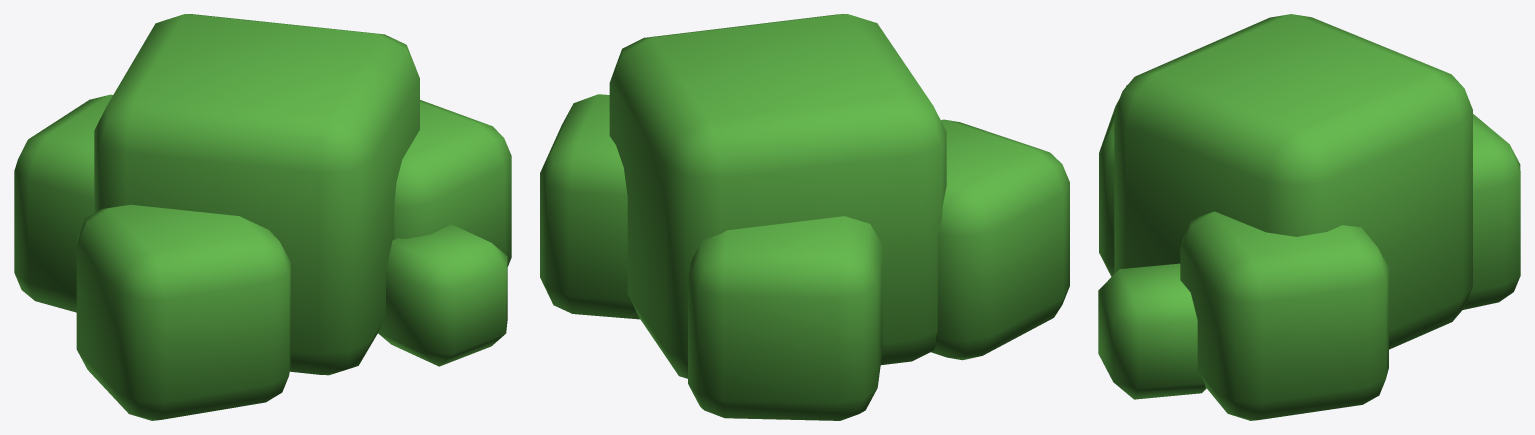
Rendered from plant_bush_2.glb.
3 views of the same model, side by side, from view 1: azimuth 30°, elevation 25°; view 2: azimuth 150°, elevation 25°; view 3: azimuth 270°, elevation 25° (orthographic). The views are drawn at different scales.
Visible parts, largest first — view 1: plant_bush_2; view 2: plant_bush_2; view 3: plant_bush_2.
Boxes of the visible parts, <box> form: plant_bush_2: <box>14,14,511,420</box>; plant_bush_2: <box>540,14,1069,420</box>; plant_bush_2: <box>1098,14,1520,420</box>.
Size of the model in its own units: 2.2 by 1.25 by 1.88.
